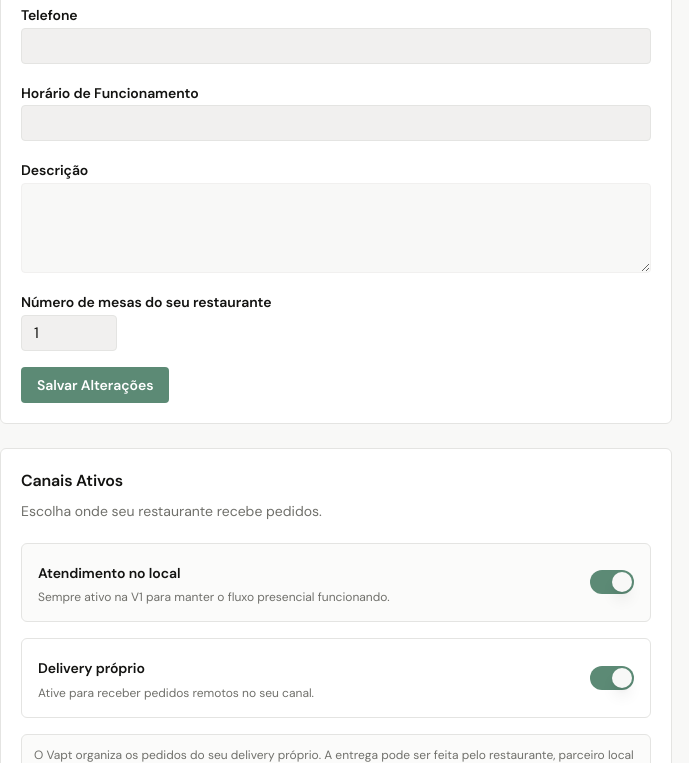
Test: restaurant writer pages respect publication receipts › restaurant settings block a conflicting save while publication is pending
(page scrolled)
Click the button "Salvar Alterações".
click(95, 385)  # box [21,367,170,403]
(page scrolled)
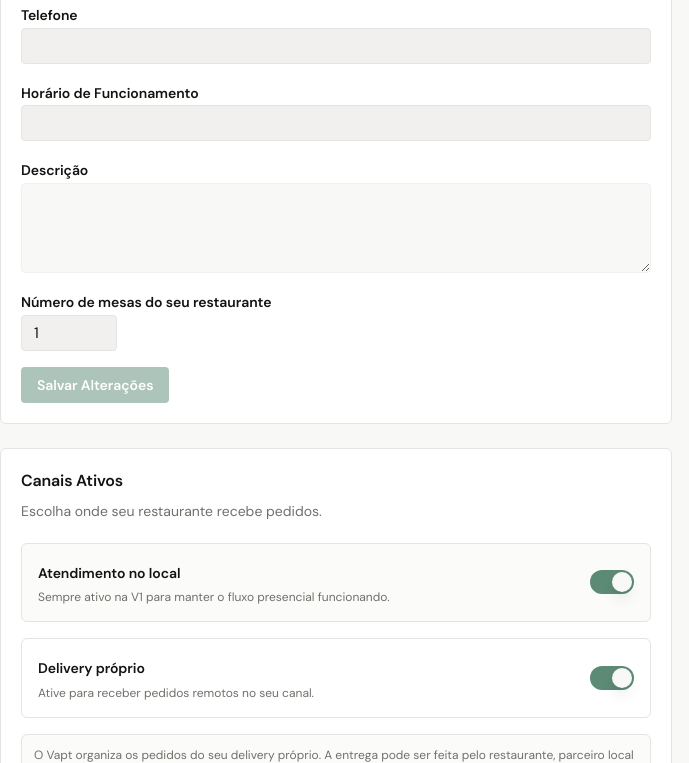
Now the button "Salvar Alterações" is disabled, box [21,367,170,403]
